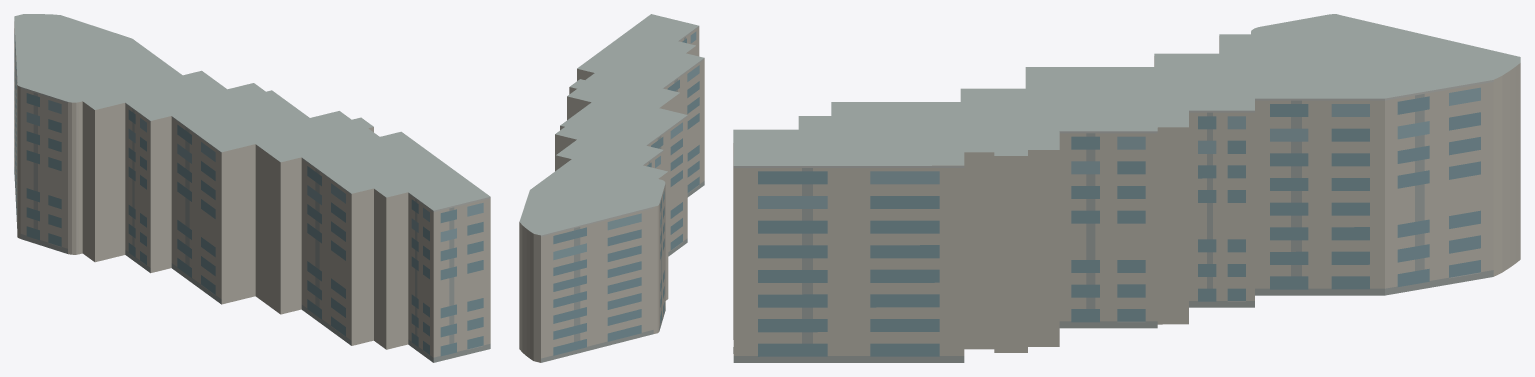
File: survey-upis-32962567.glb
3 renders of one model, left to right at view 1: azimuth 30°, elevation 25°; view 2: azimuth 150°, elevation 25°; view 3: azimuth 270°, elevation 25°, orthographic. The views are drawn at different scales.
Visible parts, largest first — view 1: survey-upis-32962567.tmp; view 2: survey-upis-32962567.tmp; view 3: survey-upis-32962567.tmp.
Part boxes in pixels (box(x1,y1,x2,y2)): survey-upis-32962567.tmp: box(14, 14, 490, 362); survey-upis-32962567.tmp: box(519, 14, 704, 362); survey-upis-32962567.tmp: box(733, 14, 1520, 362).
Bounding box in the file's own units: 38.9 × 23.51 × 85.14.
